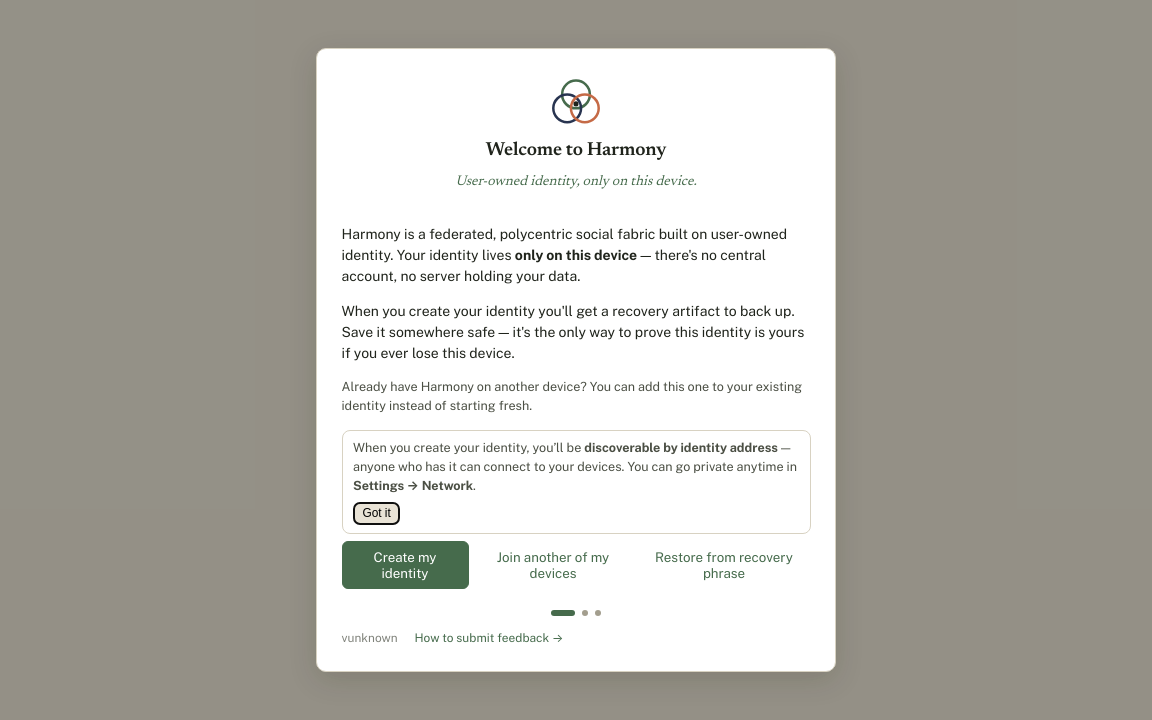
Test: WelcomeModal hard gate + flow › maps a mint failure to friendly copy with the raw backend string tucked into <details>
Click the button with test id "welcome-create-identity" at [405, 565], box x1=342 y1=541 x2=468 y2=589
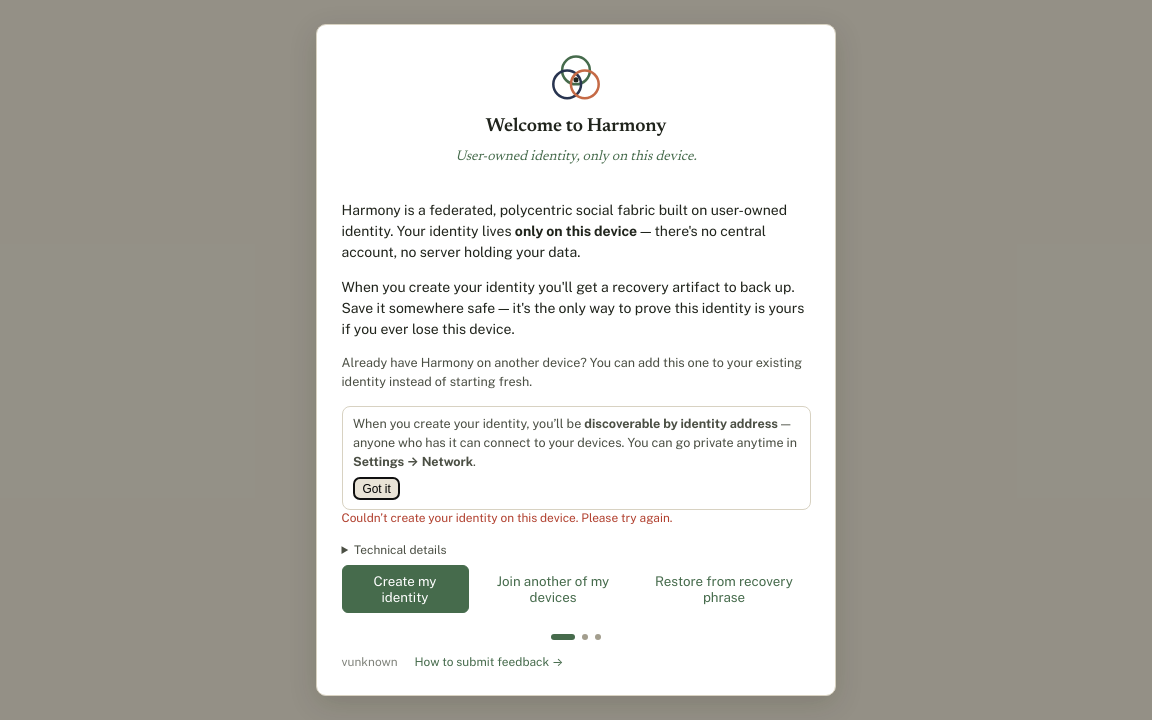
expect the element showing "Technical details" is shown: met, box x1=354 y1=543 x2=447 y2=557
